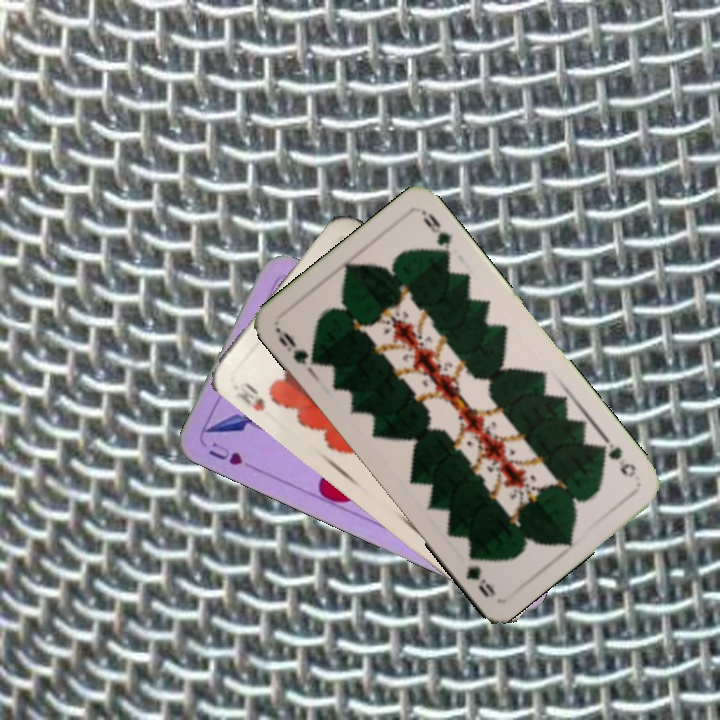G9: (272, 325, 323, 368), (594, 433, 639, 480)
H10: (231, 378, 268, 414)
HU: (204, 438, 245, 468)
